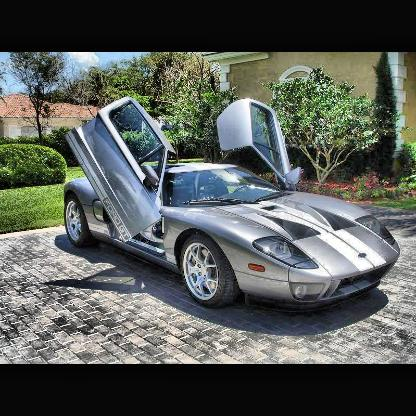Ford GT Coupe 2006: (63, 93, 401, 308)
